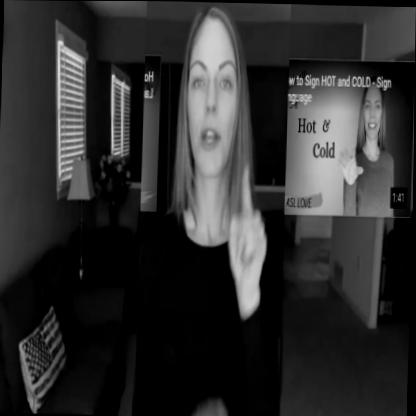NiceToMeetYou: (134, 1, 290, 416)
